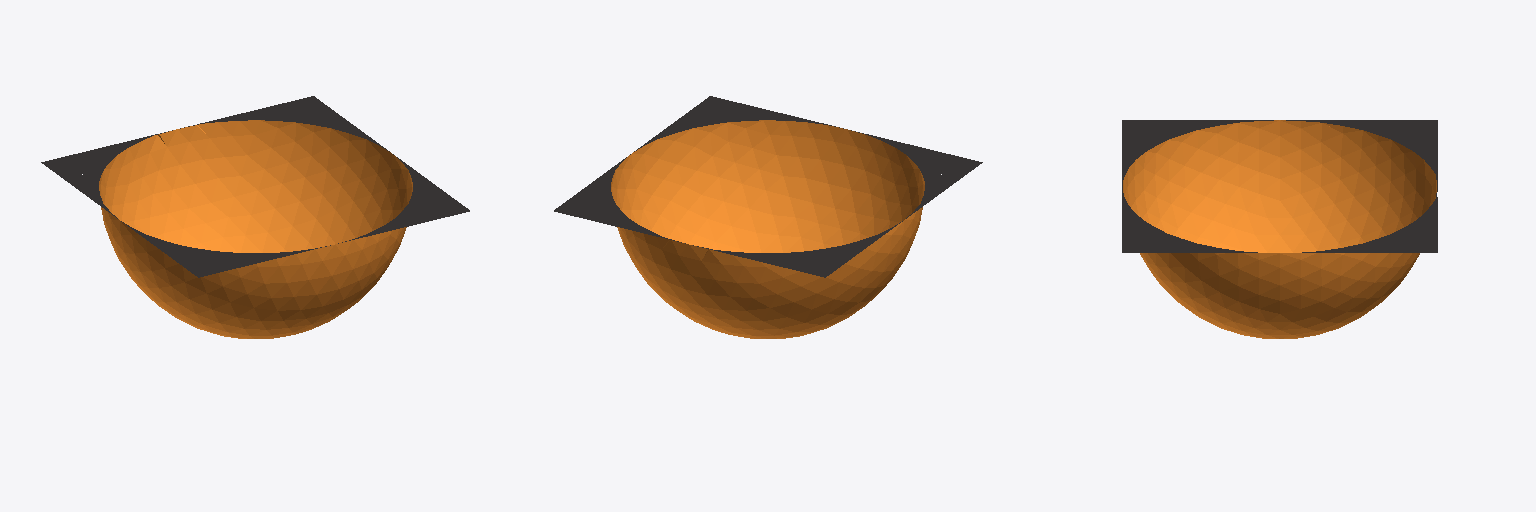
File: ballDetector.obj
3 views of the same model, side by side, from view 1: azimuth 30°, elevation 25°; view 2: azimuth 150°, elevation 25°; view 3: azimuth 270°, elevation 25° (orthographic).
Visible parts, largest first — view 1: ballDetector; view 2: ballDetector; view 3: ballDetector.
Boxes of the visible parts, box(x1,y1,x2,y2) form: ballDetector: box(41, 96, 469, 338); ballDetector: box(554, 96, 982, 338); ballDetector: box(1122, 120, 1437, 338).
Size of the model in its own units: 2 by 0.9687 by 2.